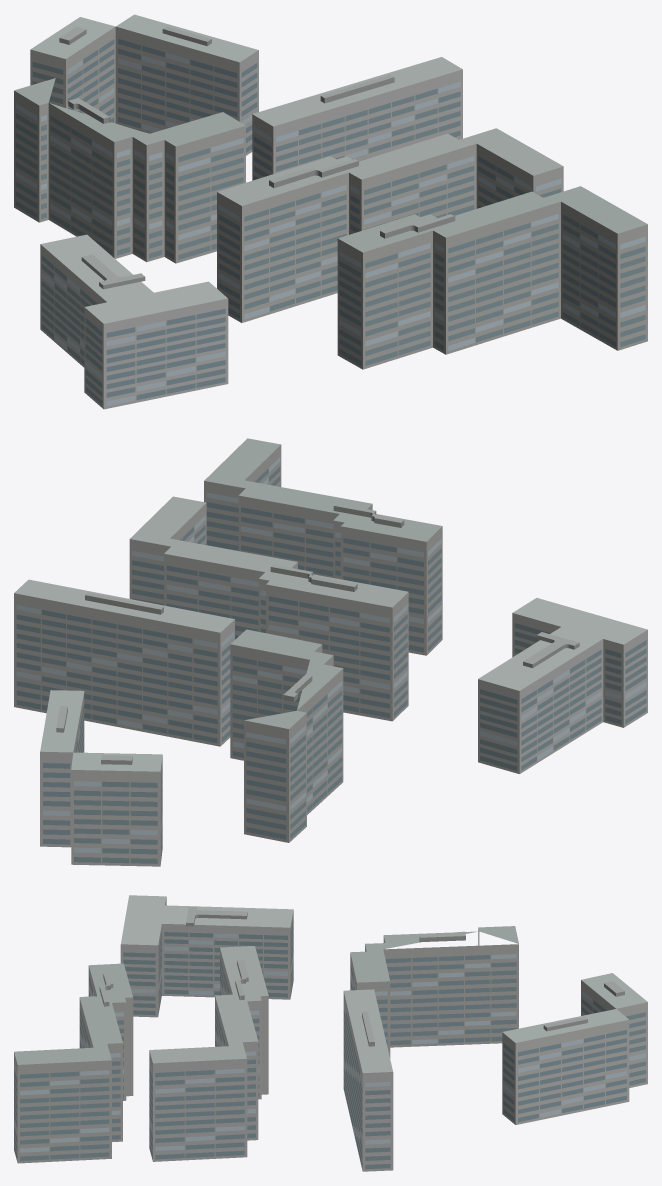
Rendered from apt-a13780403.glb.
The picture shows the model from 3 angles, top to bottom: view 1: azimuth 30°, elevation 25°; view 2: azimuth 150°, elevation 25°; view 3: azimuth 270°, elevation 25°; orthographic projection. The views are drawn at different scales.
Parts seen in each view (by area): view 1: apt-a13780403; view 2: apt-a13780403; view 3: apt-a13780403.
Part boxes in pixels (x1,y1,x2,y2): apt-a13780403: (14, 14, 647, 409); apt-a13780403: (14, 438, 647, 866); apt-a13780403: (14, 895, 647, 1171).
Size of the model in its own units: 163 by 38.24 by 213.
